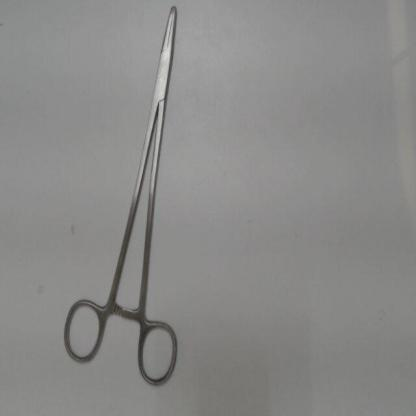8 Mayo Needle Holder: (54, 1, 185, 393)
